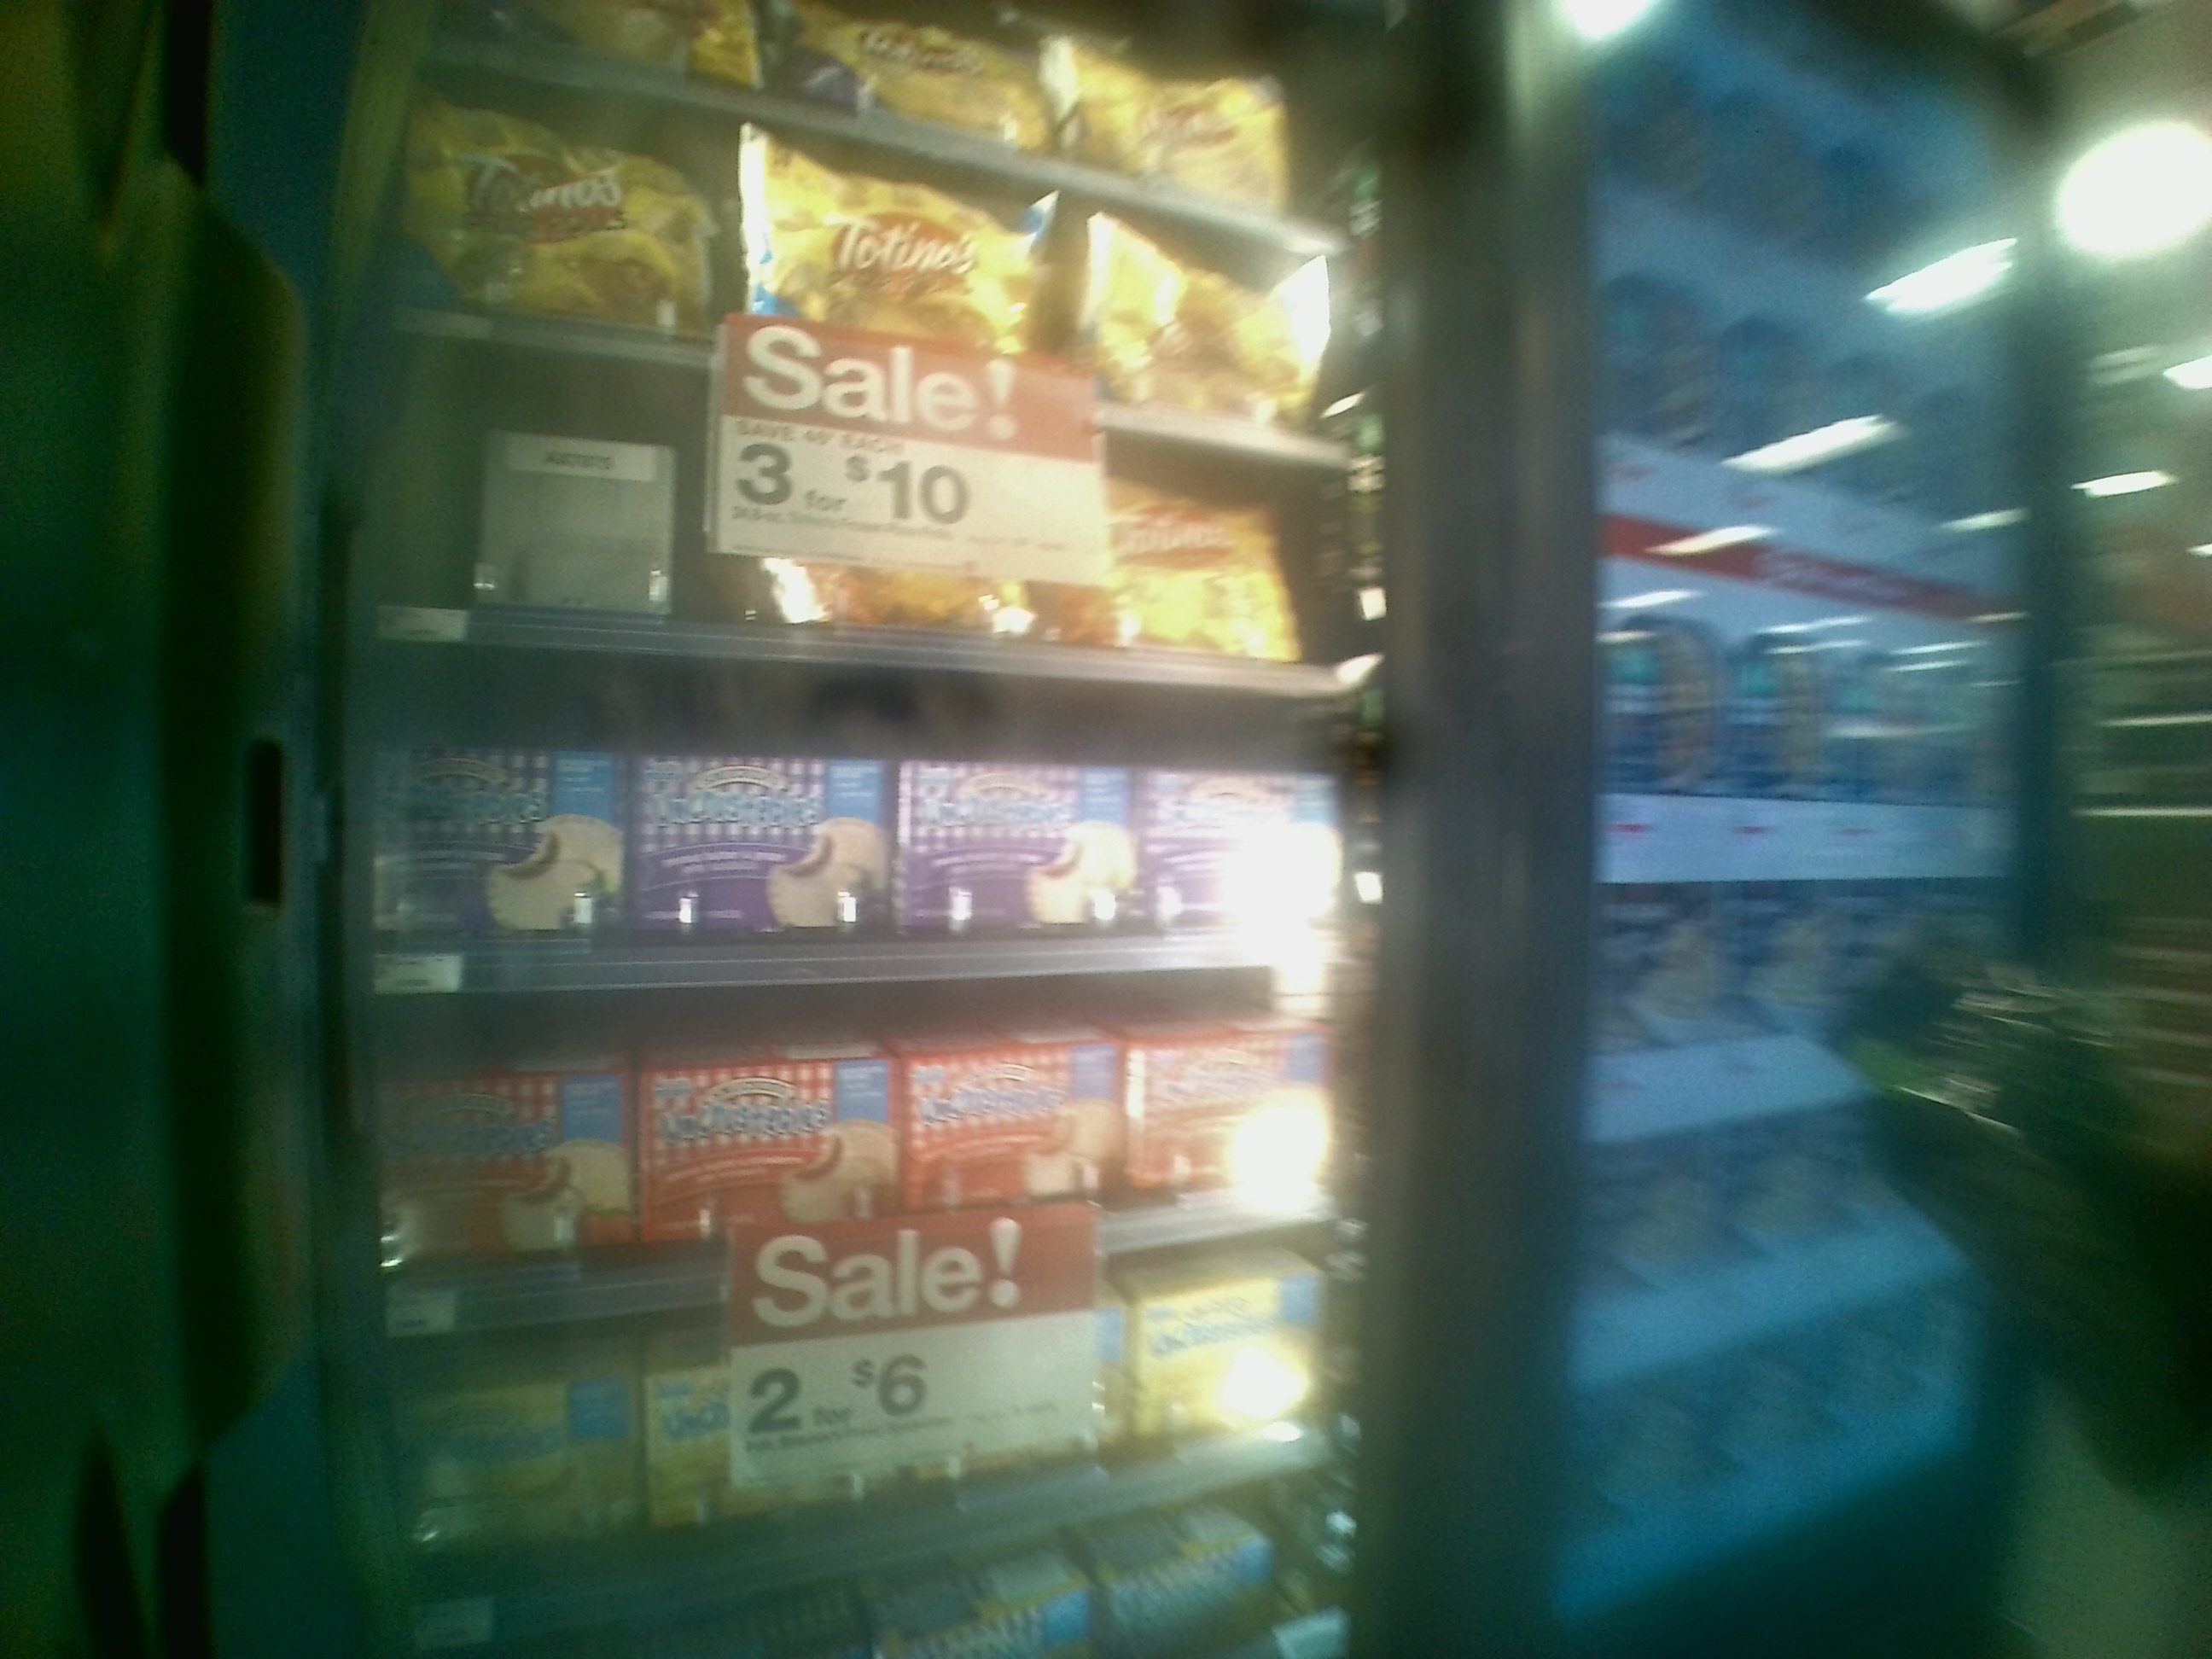shelf: (350, 971, 1399, 1335), (364, 643, 1360, 983)
